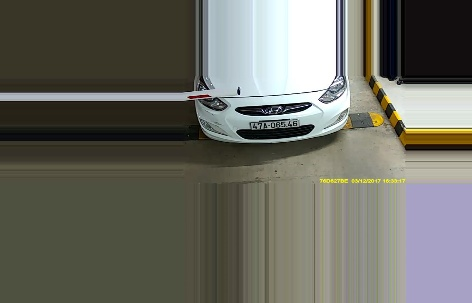plate: (247, 118, 301, 130)
